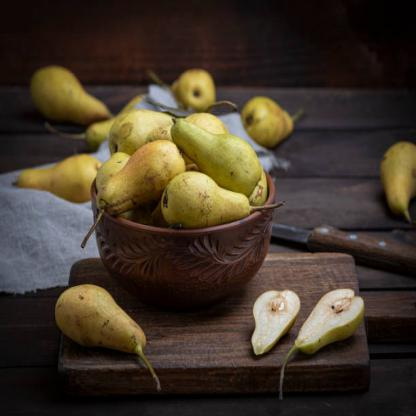Paer: (52, 274, 166, 376), (167, 111, 271, 197)
